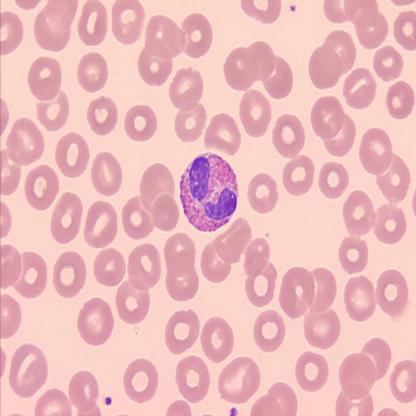Eosinophil: (179, 152, 239, 233)
